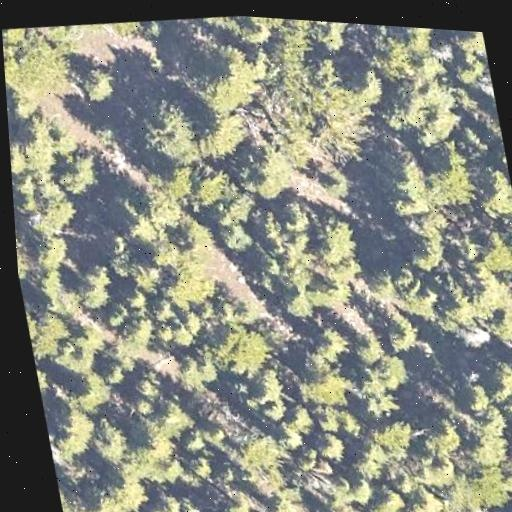tree-top: (359, 24, 464, 142), (383, 142, 485, 225), (187, 69, 264, 163), (190, 36, 274, 119), (134, 93, 213, 179), (1, 22, 77, 105), (297, 85, 369, 159), (288, 343, 361, 415), (210, 316, 276, 379), (305, 208, 367, 273), (158, 251, 220, 312), (189, 100, 249, 160), (25, 185, 85, 244), (53, 146, 110, 204), (49, 400, 105, 457), (233, 430, 288, 487), (9, 120, 57, 179), (260, 210, 308, 268), (85, 413, 136, 467), (70, 260, 119, 315), (471, 161, 512, 225), (363, 347, 415, 397), (463, 419, 512, 472), (470, 221, 512, 281), (401, 225, 450, 275), (347, 436, 396, 486), (214, 210, 261, 261), (52, 332, 100, 380), (243, 155, 290, 204), (138, 188, 183, 238), (27, 228, 73, 275), (263, 29, 307, 78), (464, 467, 511, 512), (175, 345, 222, 388), (416, 446, 459, 492), (418, 418, 462, 462), (308, 268, 350, 313), (450, 372, 491, 418), (34, 302, 76, 346), (137, 426, 181, 468), (116, 206, 154, 253), (105, 462, 142, 509), (77, 64, 118, 106), (380, 316, 420, 358), (173, 221, 214, 261), (401, 284, 443, 323), (241, 16, 295, 46), (314, 426, 354, 466), (276, 286, 317, 325), (435, 287, 474, 326), (131, 366, 169, 405), (189, 167, 226, 207), (371, 418, 414, 452), (351, 329, 388, 368), (311, 21, 351, 57), (284, 400, 321, 438), (259, 484, 308, 512), (77, 372, 115, 408), (410, 477, 449, 512), (367, 481, 408, 512), (468, 275, 504, 310), (72, 488, 123, 512), (452, 30, 488, 63), (346, 475, 380, 509), (312, 54, 345, 88), (123, 313, 154, 349), (373, 273, 406, 306), (245, 374, 281, 404), (142, 487, 185, 512), (453, 54, 485, 87), (15, 228, 35, 280), (31, 277, 62, 310), (155, 403, 189, 433), (350, 71, 382, 102), (483, 368, 512, 402), (120, 282, 151, 313), (100, 301, 133, 330), (291, 447, 324, 476), (490, 302, 512, 343), (100, 358, 129, 389), (314, 326, 343, 357), (273, 422, 305, 450), (183, 453, 214, 481), (203, 422, 233, 450), (256, 400, 287, 427), (181, 424, 209, 451), (35, 358, 56, 393), (223, 490, 256, 512), (316, 409, 344, 434), (105, 230, 129, 259), (147, 300, 176, 324), (180, 311, 205, 336), (153, 318, 175, 343), (170, 322, 191, 345), (337, 499, 374, 512), (502, 390, 512, 418)
